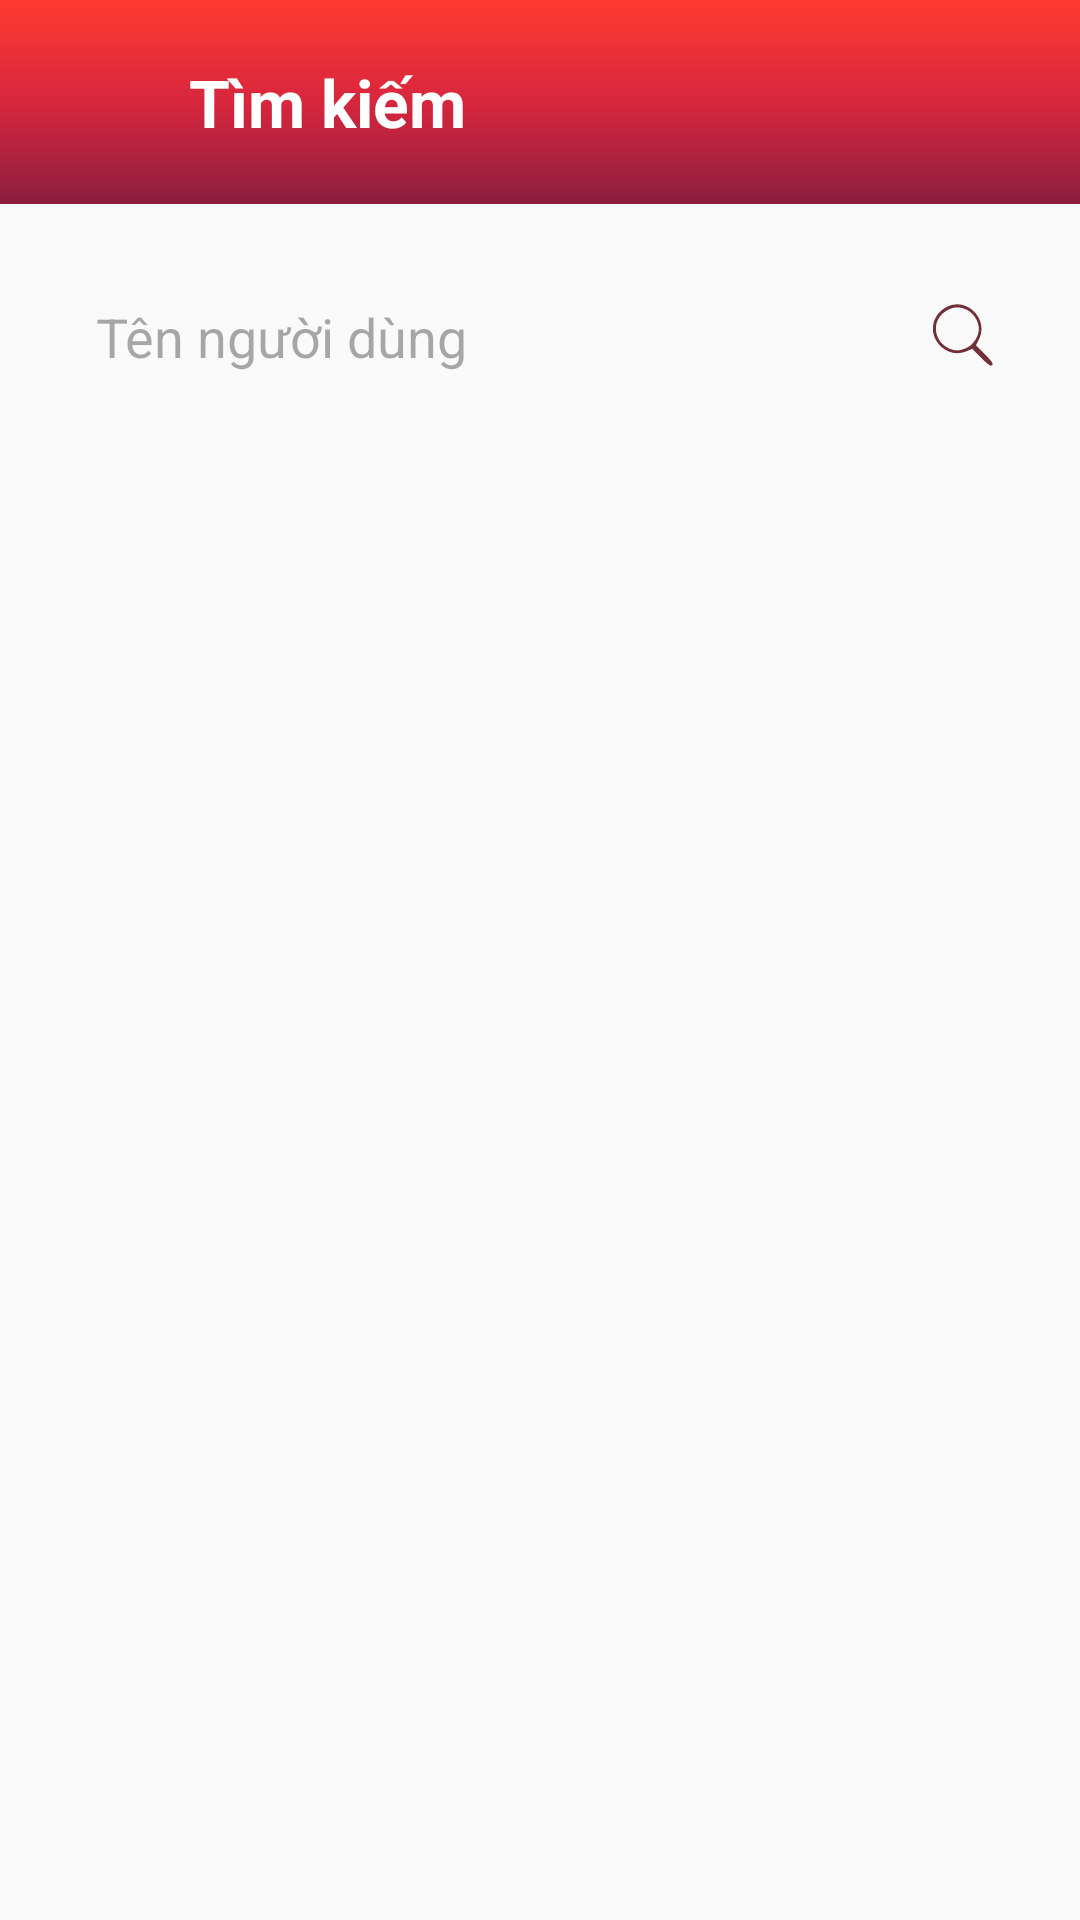

Point at icon controls on the screen. Image size 1080w x 1920h, points as (x,y).
Nút tìm kiếm: (963,335)
